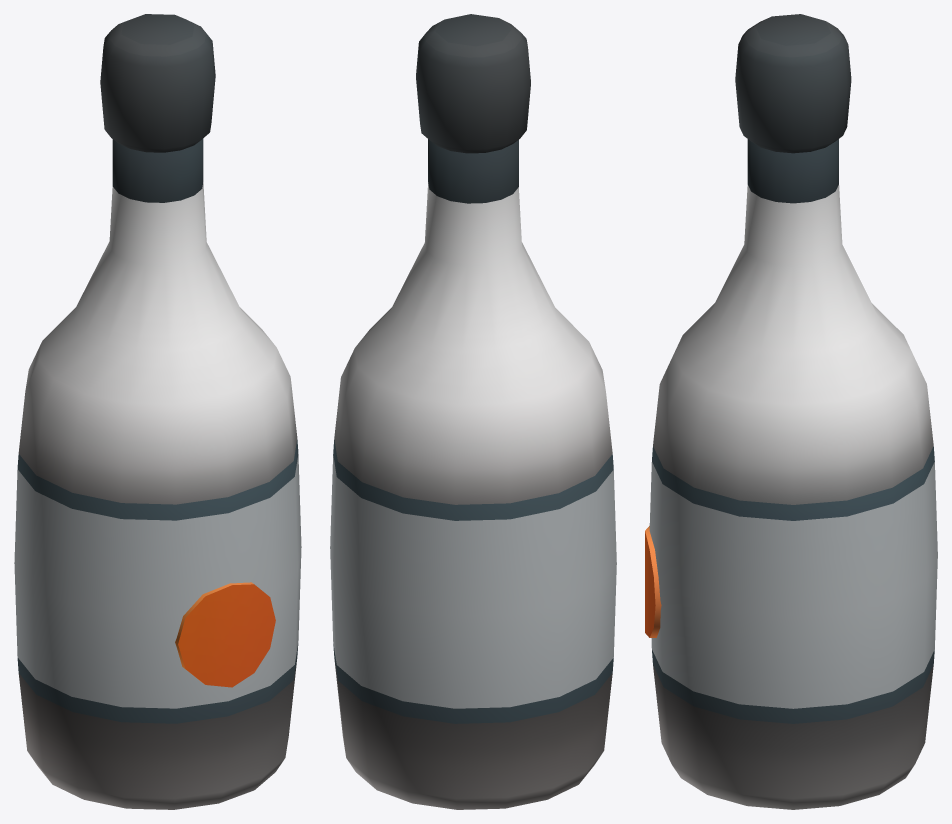
Rendered from bottle_018.fbx.
3 views of the same model, side by side, from view 1: azimuth 30°, elevation 25°; view 2: azimuth 150°, elevation 25°; view 3: azimuth 270°, elevation 25° (orthographic).
Parts seen in each view (by area): view 1: bottle_018; view 2: bottle_018; view 3: bottle_018.
Part boxes in pixels (x1,y1,x2,y2): bottle_018: (14,14,301,809); bottle_018: (330,14,616,809); bottle_018: (645,14,937,809).
Size of the model in its own units: 10.02 by 10.15 by 28.1.
